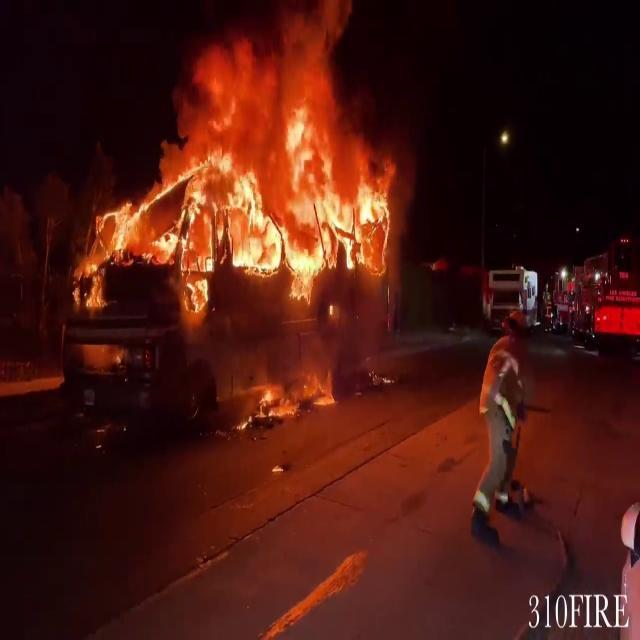Fire: (90, 10, 410, 314)
